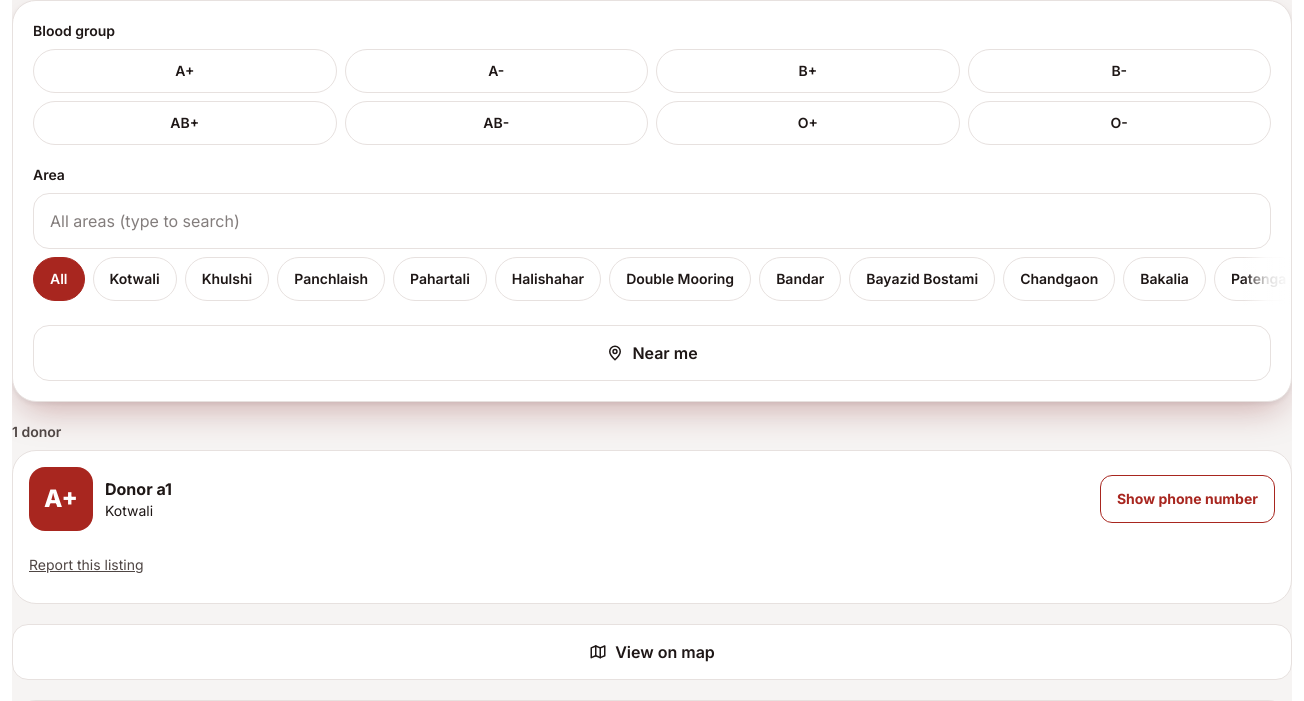
Test: F1: stale results while a new search loads › old results are dimmed and their Call buttons can't be used
Later steps or results of the test are not shown.
Expected: the button "Show phone number" is enabled, [1100,475,1275,523]
The blood group is a row of chips now, not a select: changing the filter is a tap.
Click the button "O-": (1119, 123) [968,101,1271,145]
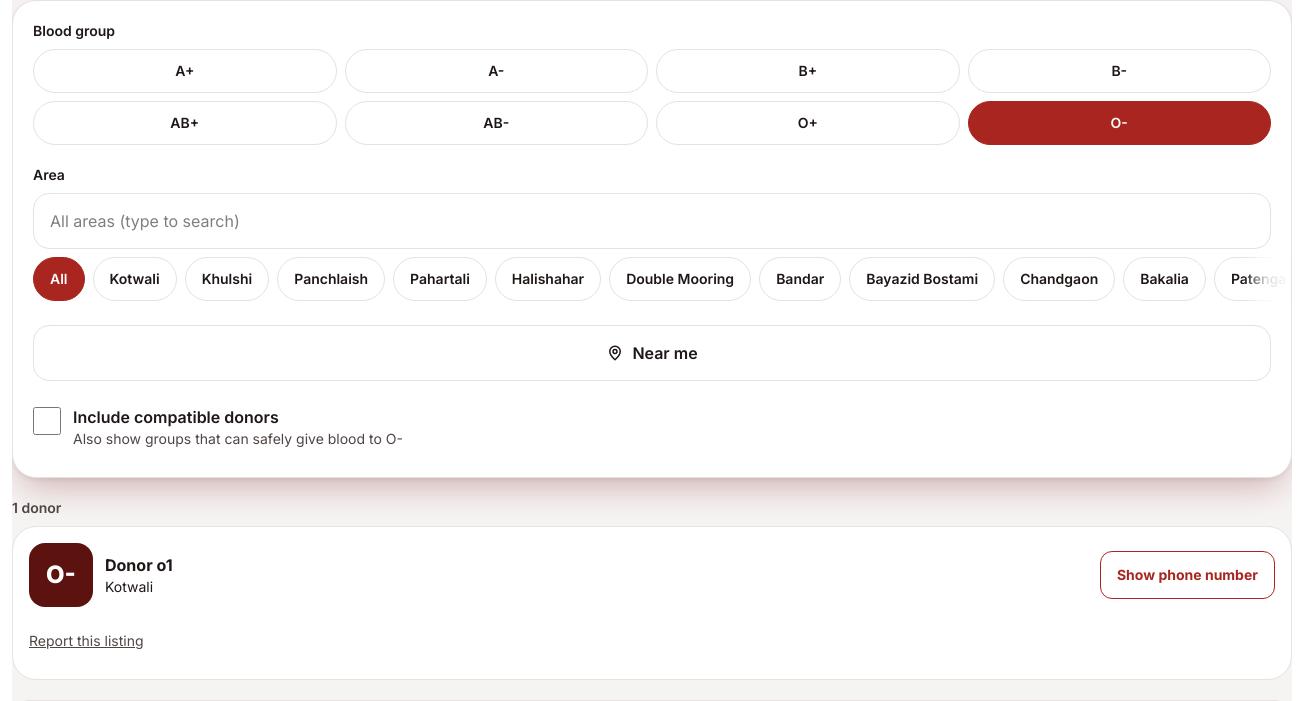
Expected: the text "Updating results for your new filters..." is shown, [12,499,61,516]
Expected: the text "Donor o1" is shown, [105,553,173,577]
Expected: the text "Donor a1" is gone
